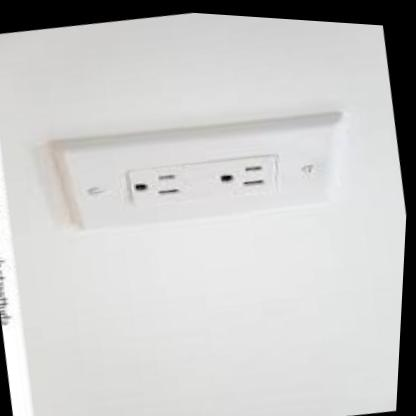OUTLET: (50, 95, 353, 253)
